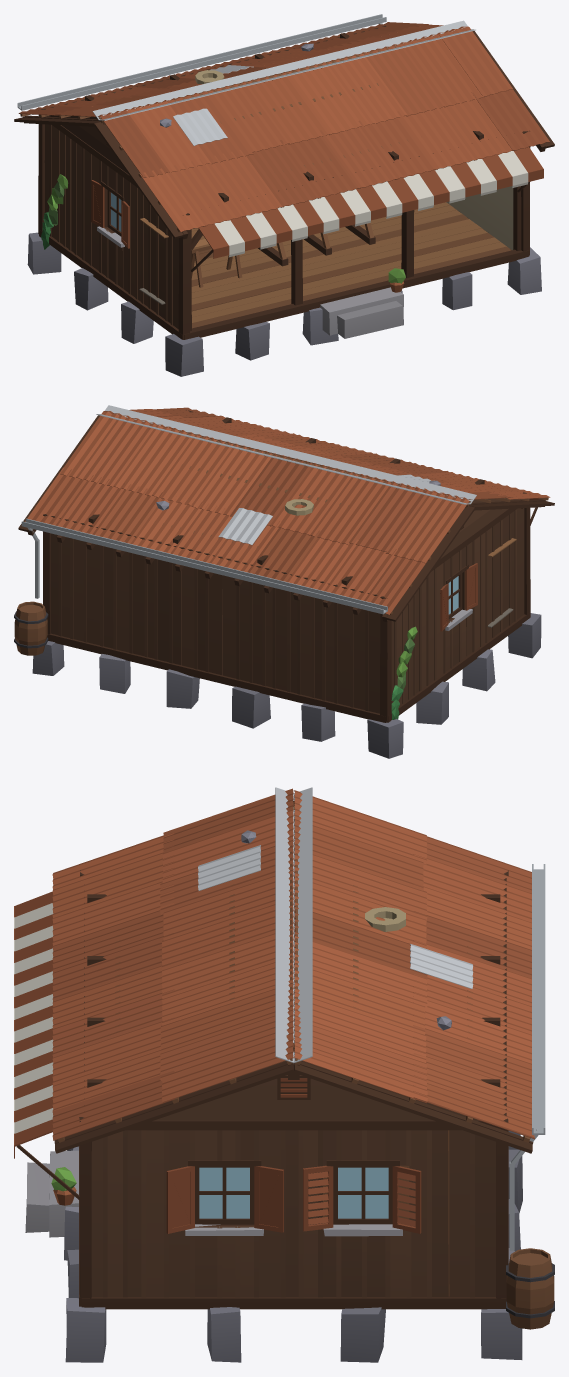
The picture shows the model from 3 angles, top to bottom: view 1: azimuth 30°, elevation 25°; view 2: azimuth 150°, elevation 25°; view 3: azimuth 270°, elevation 25°; orthographic projection. The views are drawn at different scales.
Visible parts, largest first — view 1: P02_ROOF, P02_BASE, P02_WALL_S, P02_WALL_E, P02_WALL_W, P02_WALL_N, P02_INTERIOR; view 2: P02_ROOF, P02_WALL_W, P02_WALL_S, P02_BASE; view 3: P02_ROOF, P02_WALL_N, P02_BASE, P02_WALL_E, P02_WALL_W.
Part boxes in pixels (left/top/right/bottom): P02_ROOF: left=14, top=20, right=554, bottom=239; P02_BASE: left=27, top=202, right=541, bottom=376; P02_WALL_S: left=38, top=108, right=189, bottom=339; P02_WALL_E: left=190, top=137, right=543, bottom=331; P02_WALL_W: left=17, top=14, right=386, bottom=233; P02_WALL_N: left=383, top=25, right=530, bottom=254; P02_INTERIOR: left=191, top=223, right=375, bottom=287; P02_ROOF: left=18, top=405, right=554, bottom=622; P02_WALL_W: left=14, top=514, right=387, bottom=721; P02_WALL_S: left=380, top=492, right=530, bottom=720; P02_BASE: left=32, top=613, right=541, bottom=758; P02_ROOF: left=52, top=787, right=534, bottom=1153; P02_WALL_N: left=79, top=1043, right=507, bottom=1305; P02_BASE: left=25, top=1130, right=522, bottom=1362; P02_WALL_E: left=14, top=874, right=84, bottom=1205; P02_WALL_W: left=496, top=864, right=554, bottom=1329.
Size of the model in its own units: 7.88 by 4.12 by 6.5.
